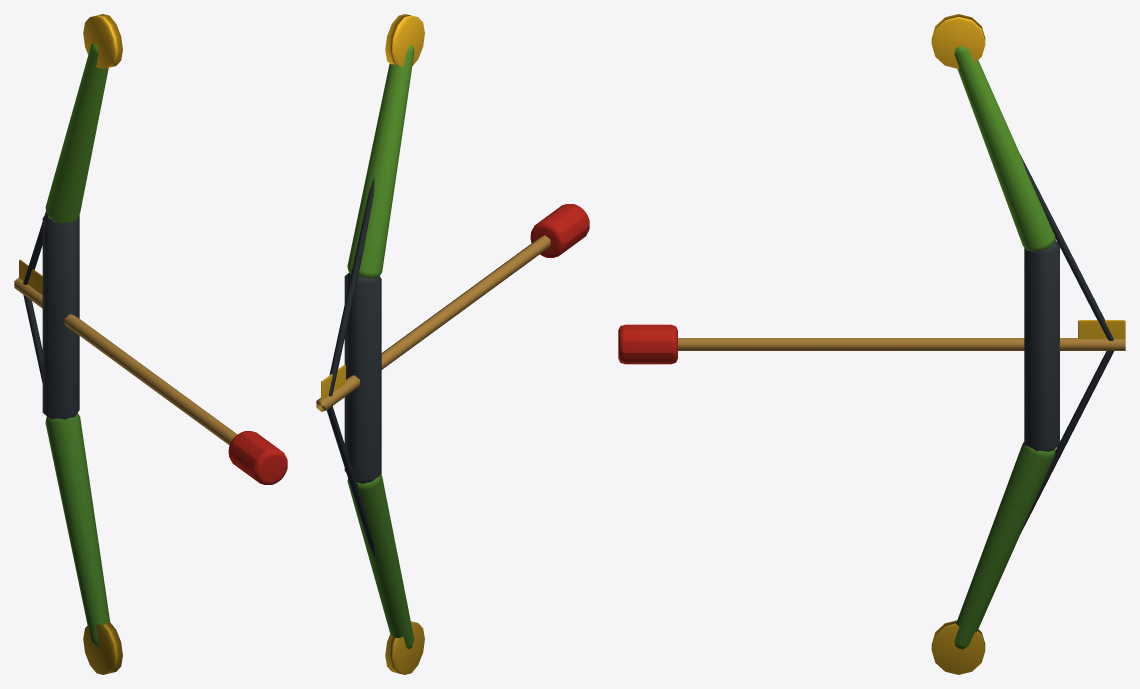
The model's file is weapon_explosiveArrow.glb.
The picture shows the model from 3 angles, left to right: view 1: azimuth 30°, elevation 25°; view 2: azimuth 150°, elevation 25°; view 3: azimuth 270°, elevation 25°; orthographic projection.
Visible parts, largest first — view 1: Bow riser, Bow limb, Bow limb.001, Nocked arrow, Explosive head, Cam wheel.001, Cam wheel, Bow string; view 2: Bow riser, Bow limb.001, Bow limb, Nocked arrow, Explosive head, Cam wheel.001, Bow string.001, Cam wheel, Bow string, Fletching; view 3: Bow riser, Bow limb.001, Bow limb, Nocked arrow, Explosive head, Cam wheel.001, Cam wheel, Bow string.001, Bow string, Fletching.
Boxes of the visible parts, box(x1,y1,x2,y2) form: Bow riser: box(42, 212, 79, 419); Bow limb: box(45, 413, 109, 646); Bow limb.001: box(45, 43, 108, 223); Nocked arrow: box(14, 277, 237, 445); Explosive head: box(228, 431, 287, 484); Cam wheel.001: box(83, 14, 122, 68); Cam wheel: box(83, 621, 122, 674); Bow string: box(23, 295, 42, 382); Bow riser: box(344, 273, 381, 483); Bow limb.001: box(347, 45, 414, 278); Bow limb: box(347, 474, 414, 648); Nocked arrow: box(316, 235, 550, 411); Explosive head: box(530, 204, 589, 257); Cam wheel.001: box(385, 14, 424, 67); Bow string.001: box(328, 177, 374, 396); Cam wheel: box(385, 621, 424, 674); Bow string: box(326, 406, 374, 556); Fletching: box(321, 364, 345, 399); Bow riser: box(1024, 240, 1059, 451); Bow limb.001: box(954, 46, 1055, 251); Bow limb: box(954, 442, 1055, 649); Nocked arrow: box(678, 338, 1125, 350); Explosive head: box(618, 324, 677, 364); Cam wheel.001: box(931, 14, 985, 68); Cam wheel: box(931, 620, 985, 674); Bow string.001: box(1020, 154, 1113, 340); Bow string: box(1020, 350, 1113, 534); Fletching: box(1078, 320, 1125, 338).
Size of the model in its own units: 0.0666 by 1.21 by 0.85.
Materials: 6 (6 with a texture image).
